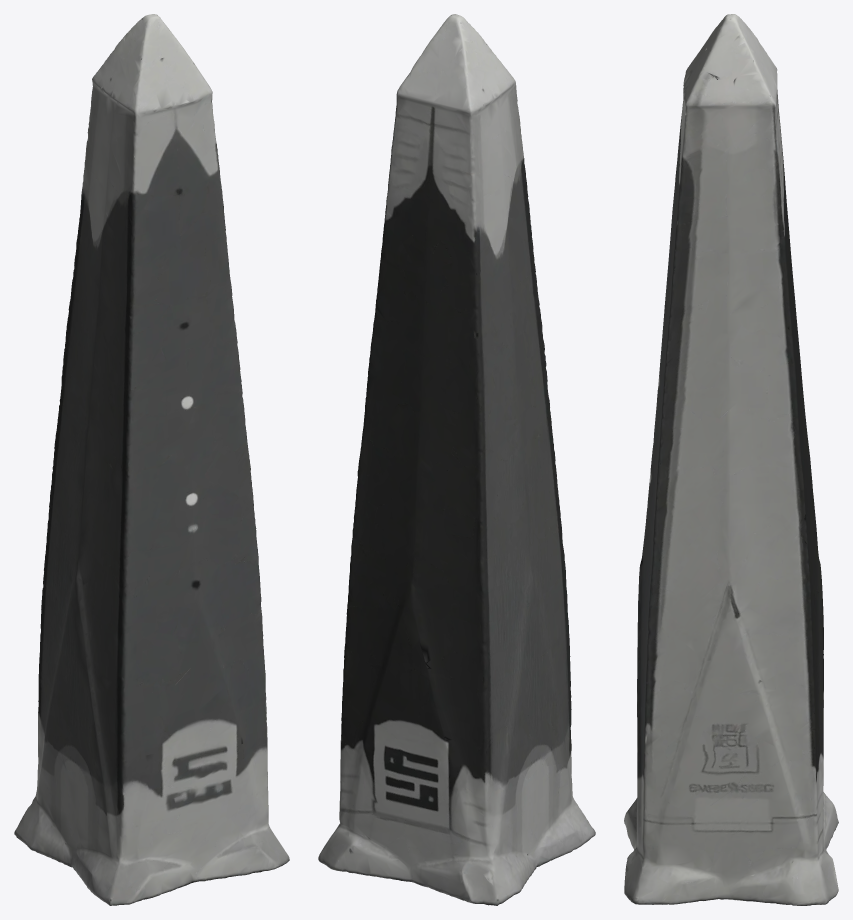
File: apex-monolith.glb
3 renders of one model, left to right at view 1: azimuth 30°, elevation 25°; view 2: azimuth 150°, elevation 25°; view 3: azimuth 270°, elevation 25°, orthographic.
Bounding box in the file's own units: 0.4707 × 2 × 0.461.
Materials: 1 (1 with a texture image).
